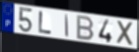4: (98, 17, 114, 44)
5: (18, 6, 34, 33)
B: (75, 14, 95, 42)
I: (65, 13, 69, 38)
L: (38, 10, 54, 35)
X: (116, 19, 135, 47)
